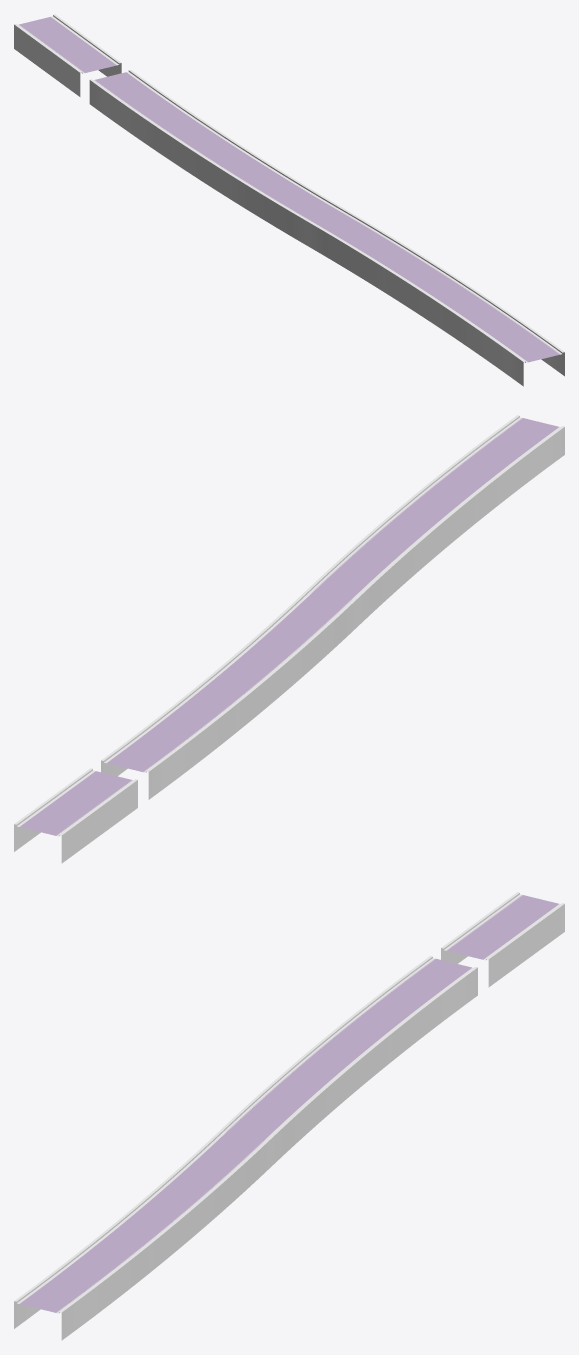
File: Track_new.fbx
The picture shows the model from 3 angles, top to bottom: view 1: azimuth 30°, elevation 25°; view 2: azimuth 150°, elevation 25°; view 3: azimuth 330°, elevation 25°; orthographic projection. The views are drawn at different scales.
Parts seen in each view (by area): view 1: Left_turn, Right_turn, StraightTrack; view 2: Right_turn, Left_turn, StraightTrack; view 3: Left_turn, Right_turn, StraightTrack.
Boxes of the visible parts, box(x1,y1,x2,y2) form: Left_turn: box(308, 210, 564, 386); Right_turn: box(89, 69, 345, 245); StraightTrack: box(14, 14, 121, 96); Right_turn: box(101, 589, 357, 799); Left_turn: box(308, 415, 564, 625); StraightTrack: box(14, 768, 137, 863); Left_turn: box(14, 1129, 270, 1340); Right_turn: box(221, 956, 477, 1166); StraightTrack: box(441, 892, 564, 987).
Size of the model in its own units: 84.05 by 25.37 by 891.
Materials: 1 (1 with a texture image).
